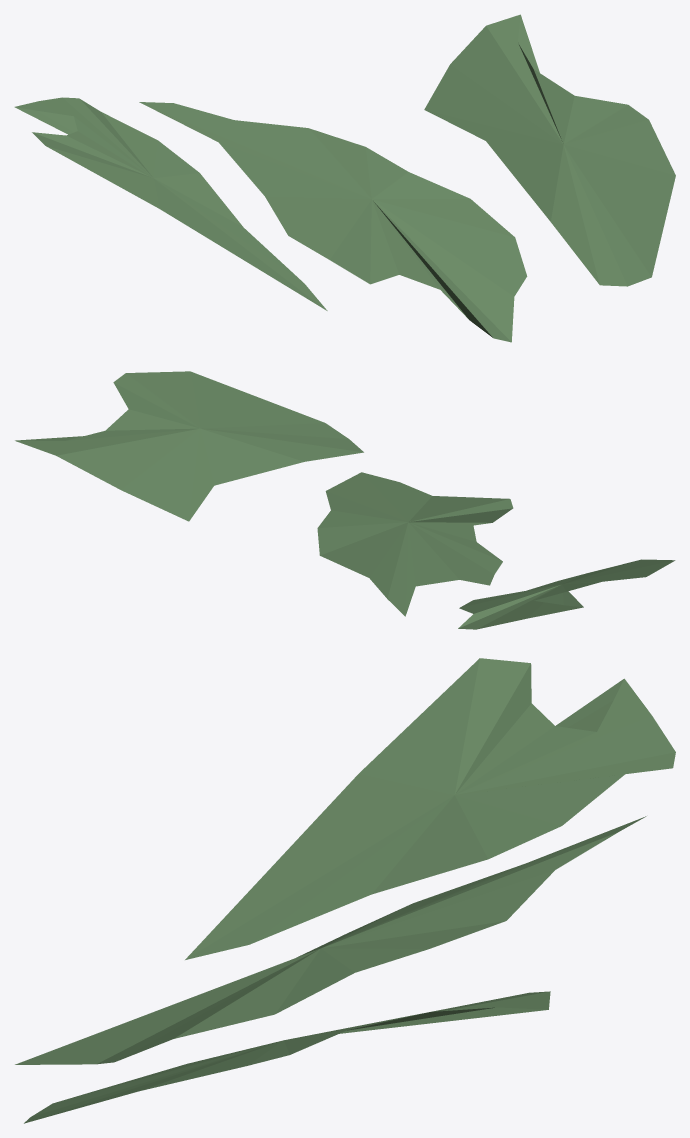
The model's file is c_1671_17816_forest.glb.
3 views of the same model, one above another, from view 1: azimuth 30°, elevation 25°; view 2: azimuth 150°, elevation 25°; view 3: azimuth 270°, elevation 25° (orthographic). The views are drawn at different scales.
Parts seen in each view (by area): view 1: geometry_0; view 2: geometry_0; view 3: geometry_0.
Boxes of the visible parts, x1=… form: geometry_0: x1=14, y1=14, x2=675, y2=342; geometry_0: x1=15, y1=371, x2=675, y2=629; geometry_0: x1=15, y1=658, x2=675, y2=1123.
Bounding box in the file's own units: 302 × 81.42 × 239.
